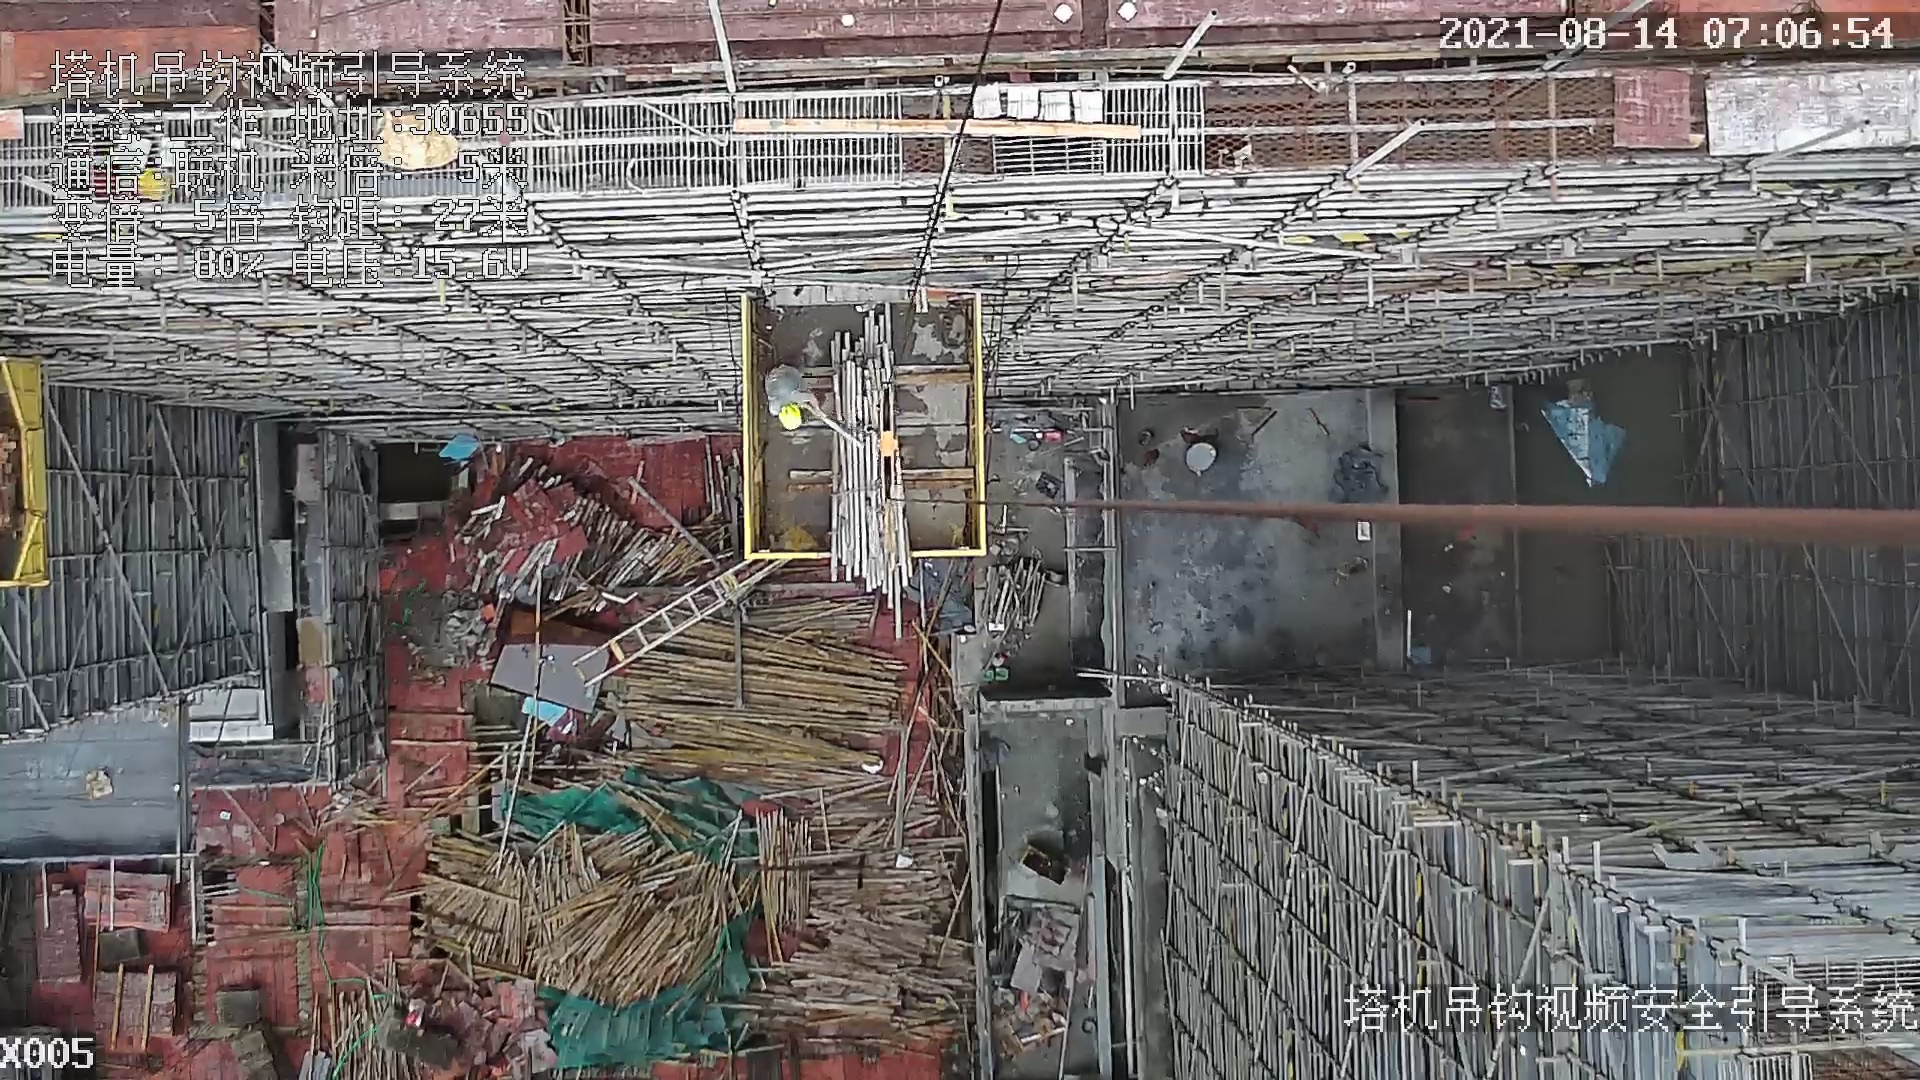helmet: (778, 402, 803, 431)
hook: (876, 377, 906, 505)
person: (764, 356, 826, 426)
